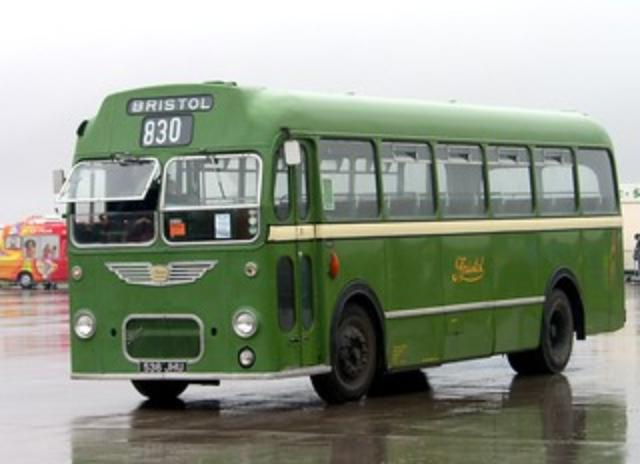bus: (62, 80, 626, 404)
